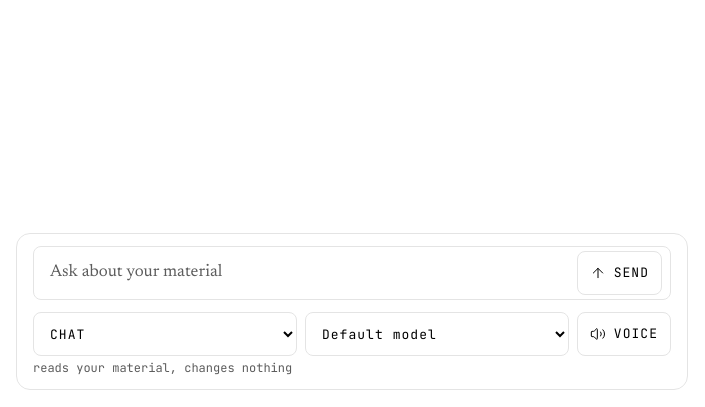
Test: the agent dock › renders a queued message as waiting, with its real id
This screenshot has width=705, height=407.
Step 1. Type "and then?" into the text box labelled "Ask about your material" → (305, 273), box [42,251,569,295]
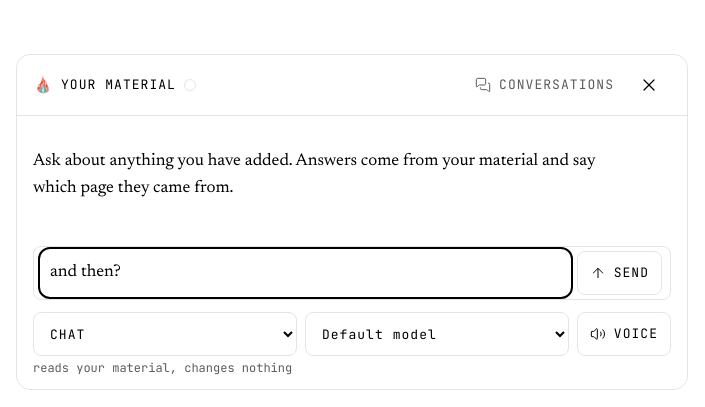
Step 2. Click the button "Send" → (619, 273), box [577,251,662,295]
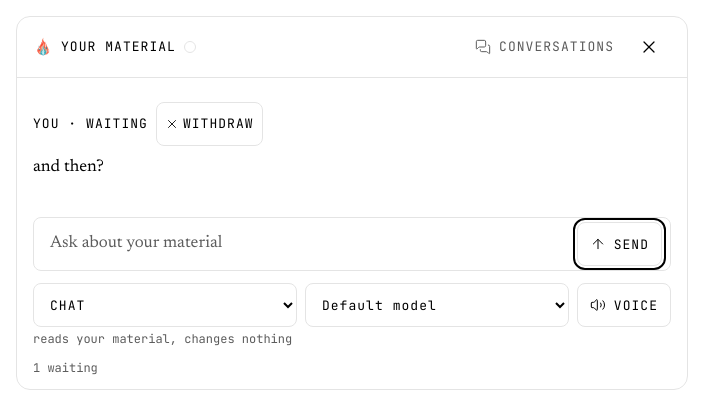
expect the element with test id "meta-m9" shows "Waiting": met, box [33,115,148,132]
